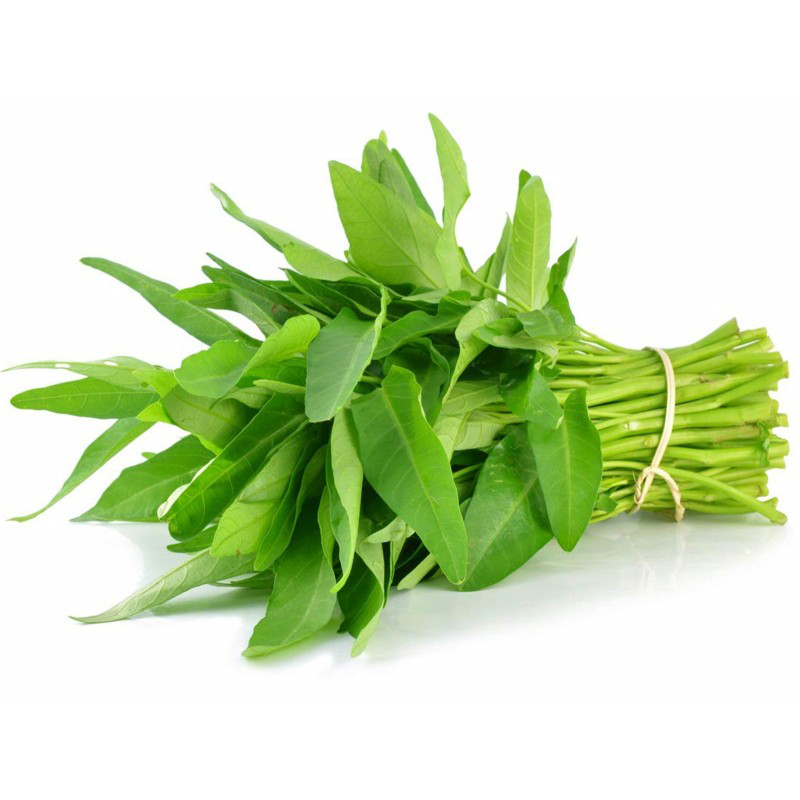Kangkung: (37, 123, 768, 594)
